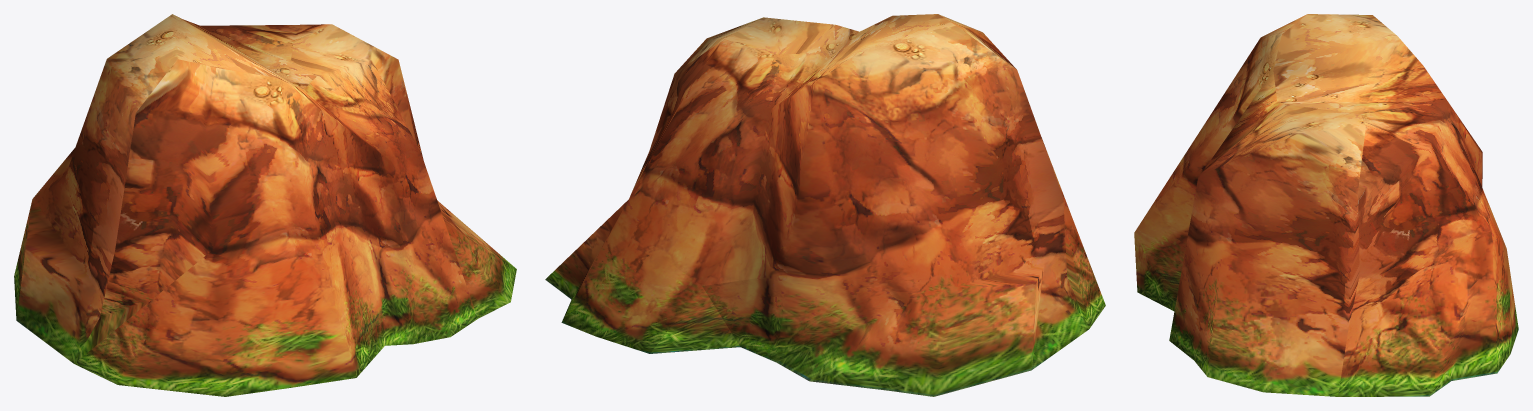
The model's file is bch_rock2.fbx.
3 views of the same model, side by side, from view 1: azimuth 30°, elevation 25°; view 2: azimuth 150°, elevation 25°; view 3: azimuth 270°, elevation 25° (orthographic). The views are drawn at different scales.
Visible parts, largest first — view 1: bch_rock2; view 2: bch_rock2; view 3: bch_rock2.
Boxes of the visible parts, x1=… form: bch_rock2: x1=14, y1=14, x2=516, y2=396; bch_rock2: x1=545, y1=14, x2=1105, y2=396; bch_rock2: x1=1134, y1=14, x2=1518, y2=396.
Bounding box in the file's own units: 2419 × 1432 × 2051.
